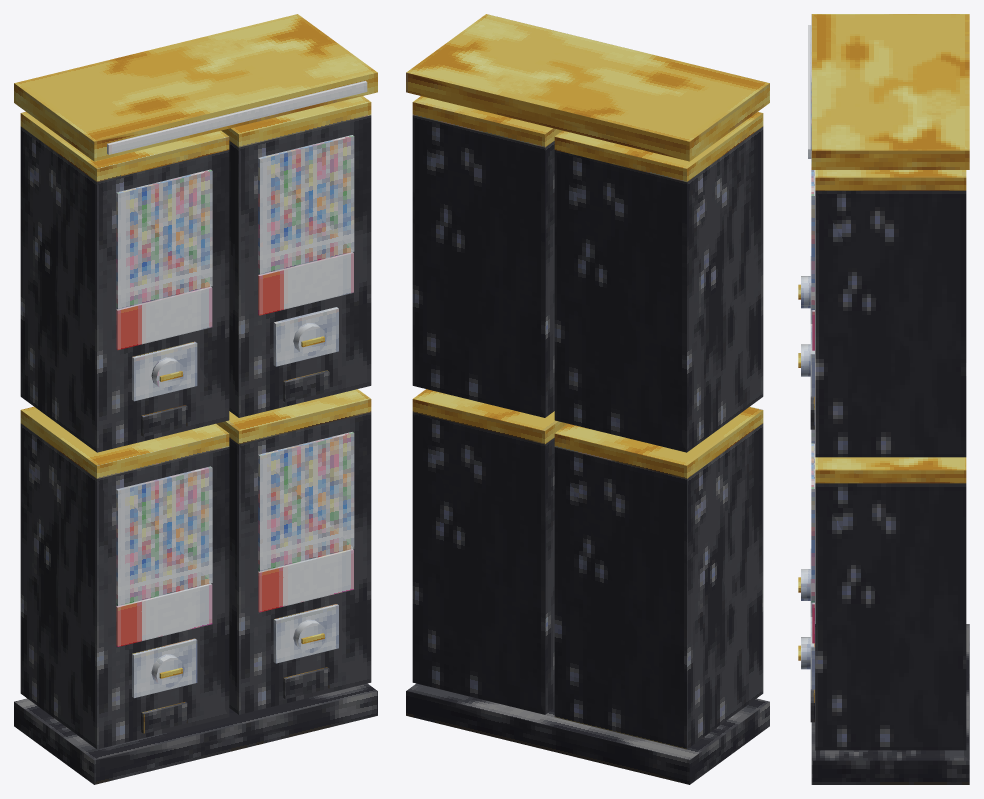
File: route_black.glb
3 renders of one model, left to right at view 1: azimuth 30°, elevation 25°; view 2: azimuth 150°, elevation 25°; view 3: azimuth 270°, elevation 25°, orthographic.
Parts seen in each view (by area): view 1: mesh; view 2: mesh; view 3: mesh.
Part boxes in pixels (x1,y1,x2,y2): mesh: [14, 14, 377, 784]; mesh: [406, 14, 769, 784]; mesh: [798, 14, 969, 784].
Size of the model in its own units: 0.8999 by 1.95 by 0.478.
1 material, 1 textured.
